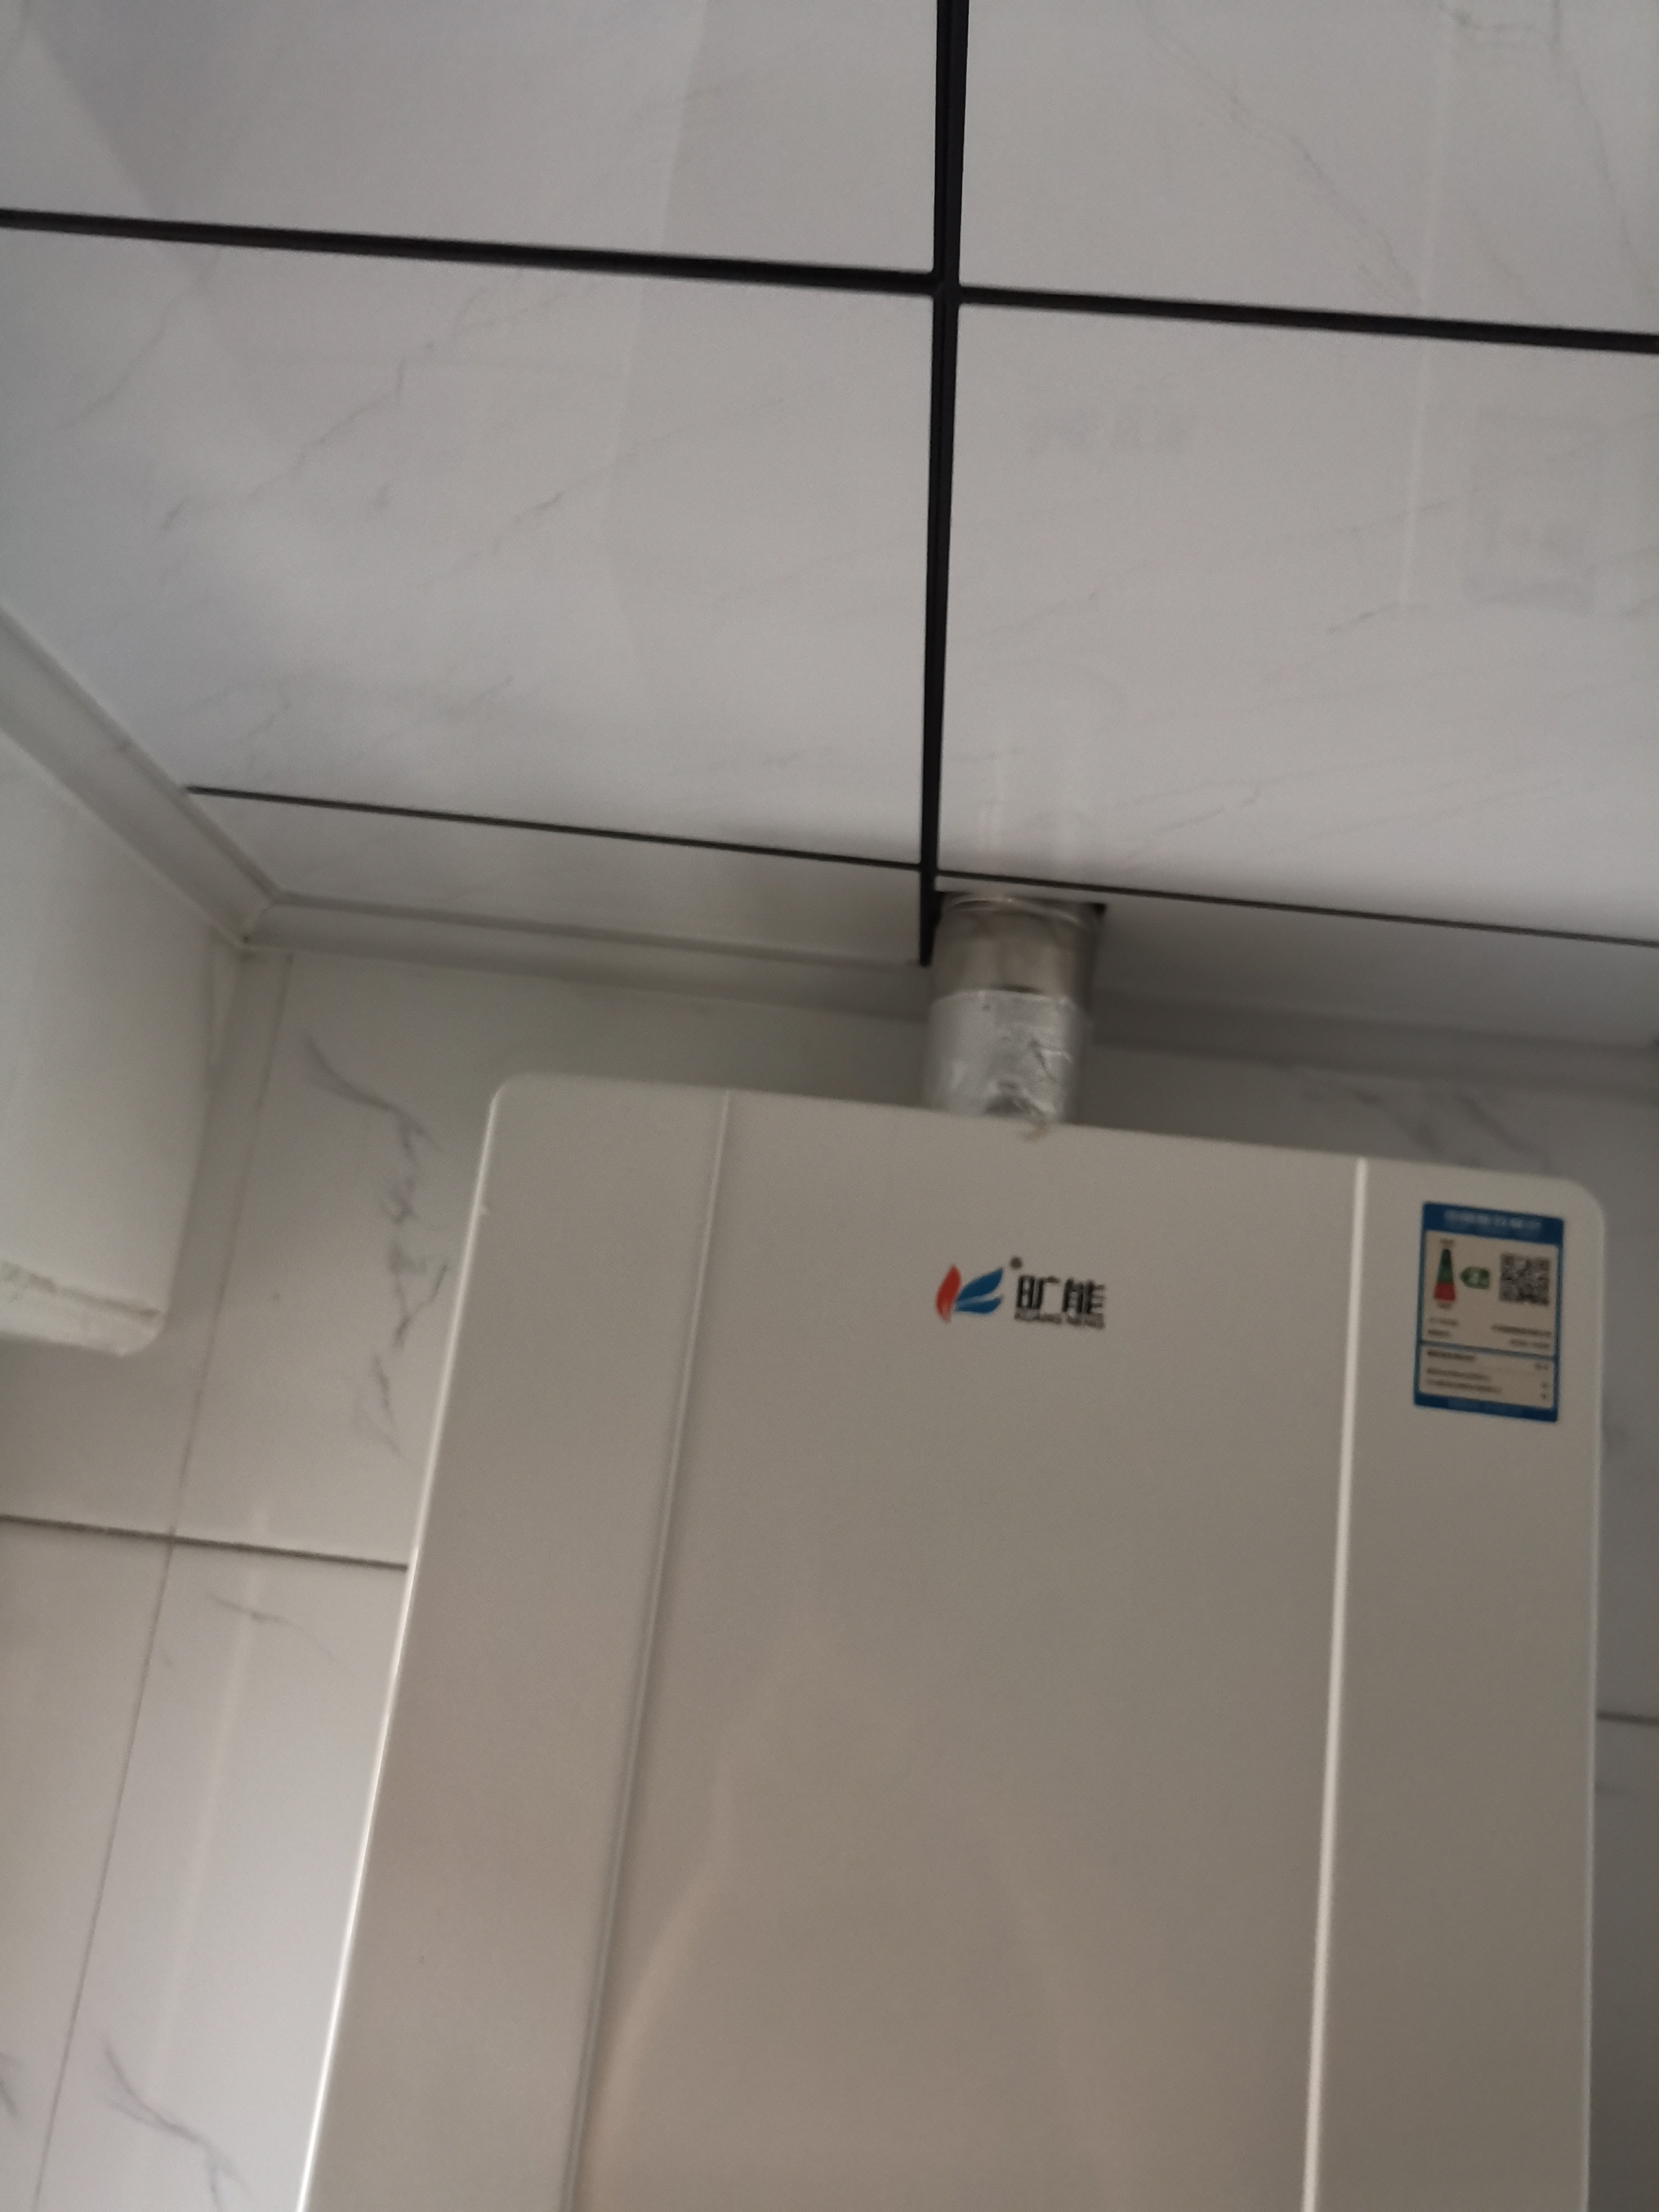loudou: (915, 1242, 1152, 1348)
